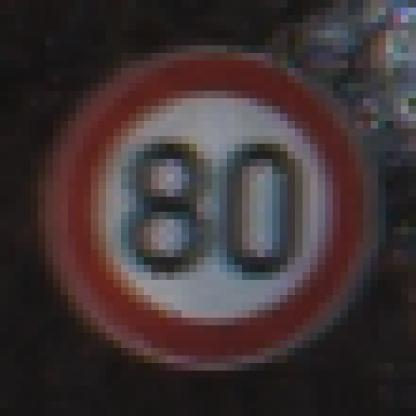Speed Limit 80: (61, 51, 362, 364)
